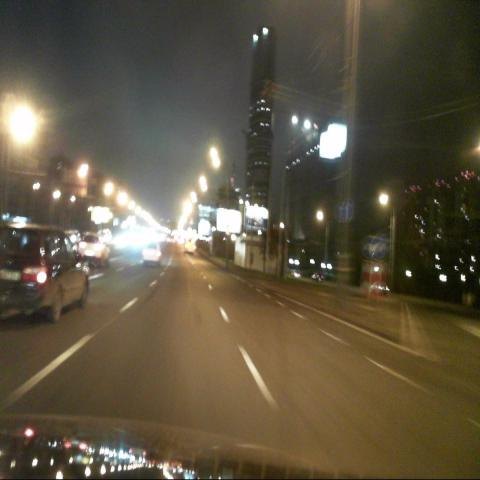4_2_3: (373, 234, 386, 257)
